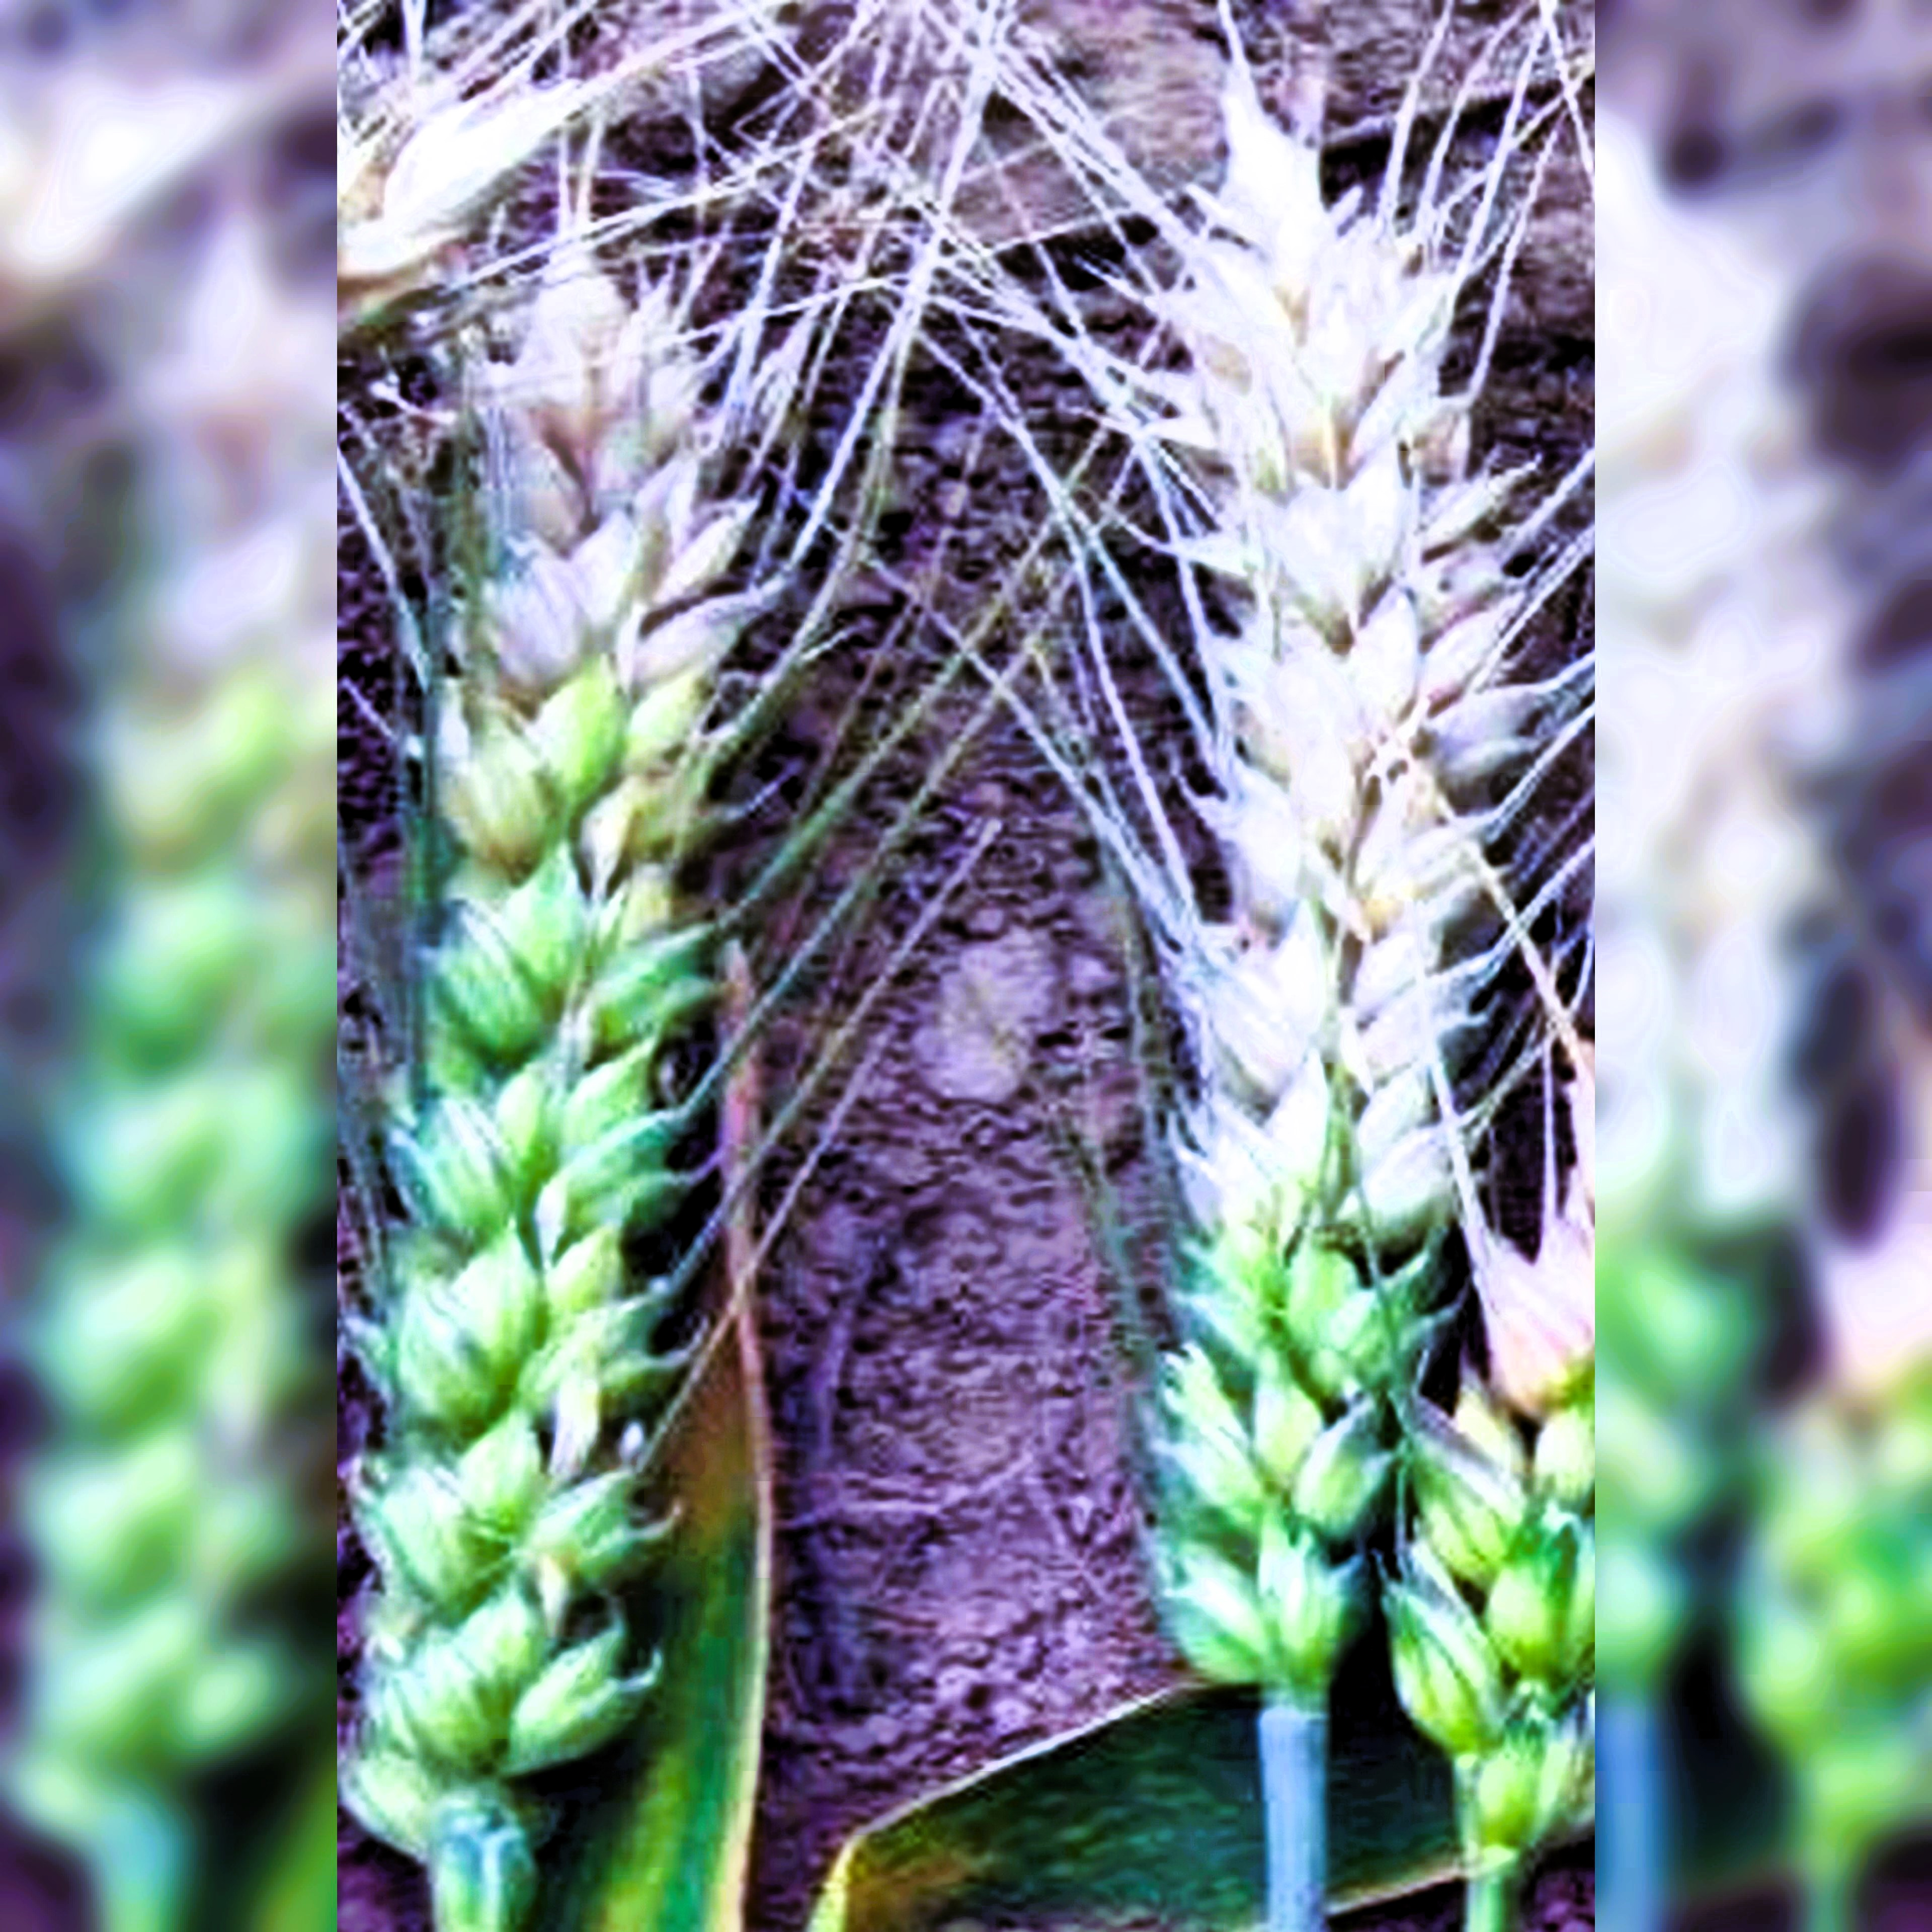Wheat scab: (1060, 198, 1465, 1748)
